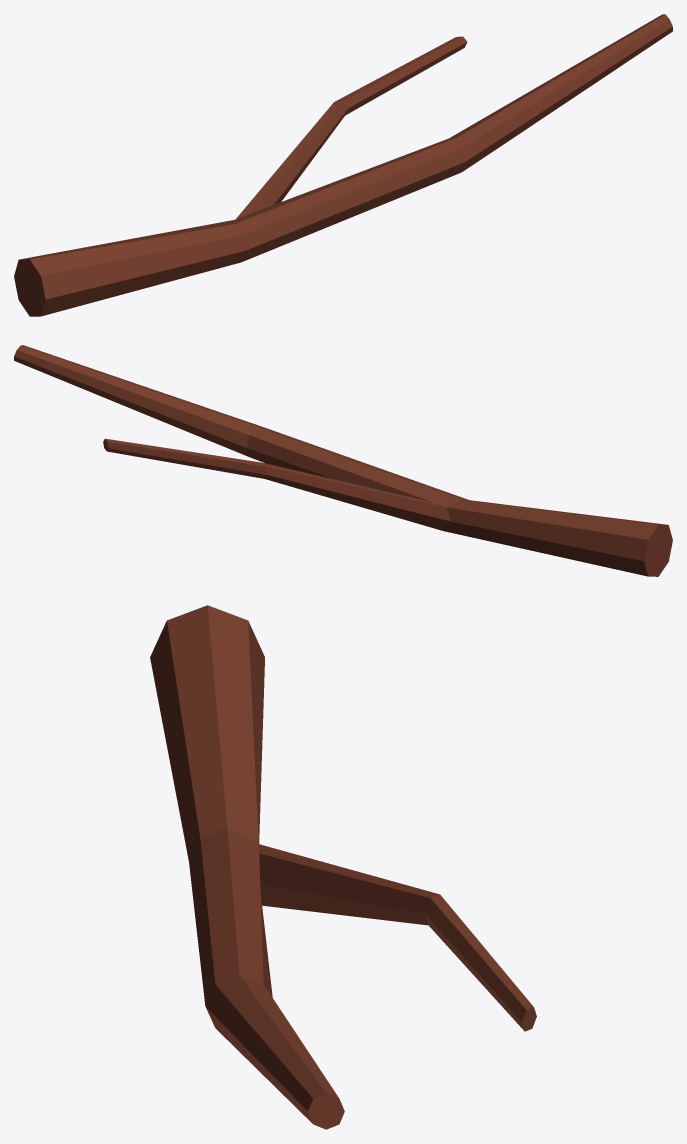
The model's file is pine_branch_type_5_LOD0..fbx.
3 views of the same model, one above another, from view 1: azimuth 30°, elevation 25°; view 2: azimuth 150°, elevation 25°; view 3: azimuth 270°, elevation 25° (orthographic). The views are drawn at different scales.
Visible parts, largest first — view 1: Circle.034; view 2: Circle.034; view 3: Circle.034.
Part boxes in pixels (left/top/right/bottom): Circle.034: left=14, top=14, right=672, bottom=316; Circle.034: left=14, top=345, right=672, bottom=576; Circle.034: left=150, top=605, right=536, bottom=1129.
Size of the model in its own units: 311 by 51.31 by 85.04.
